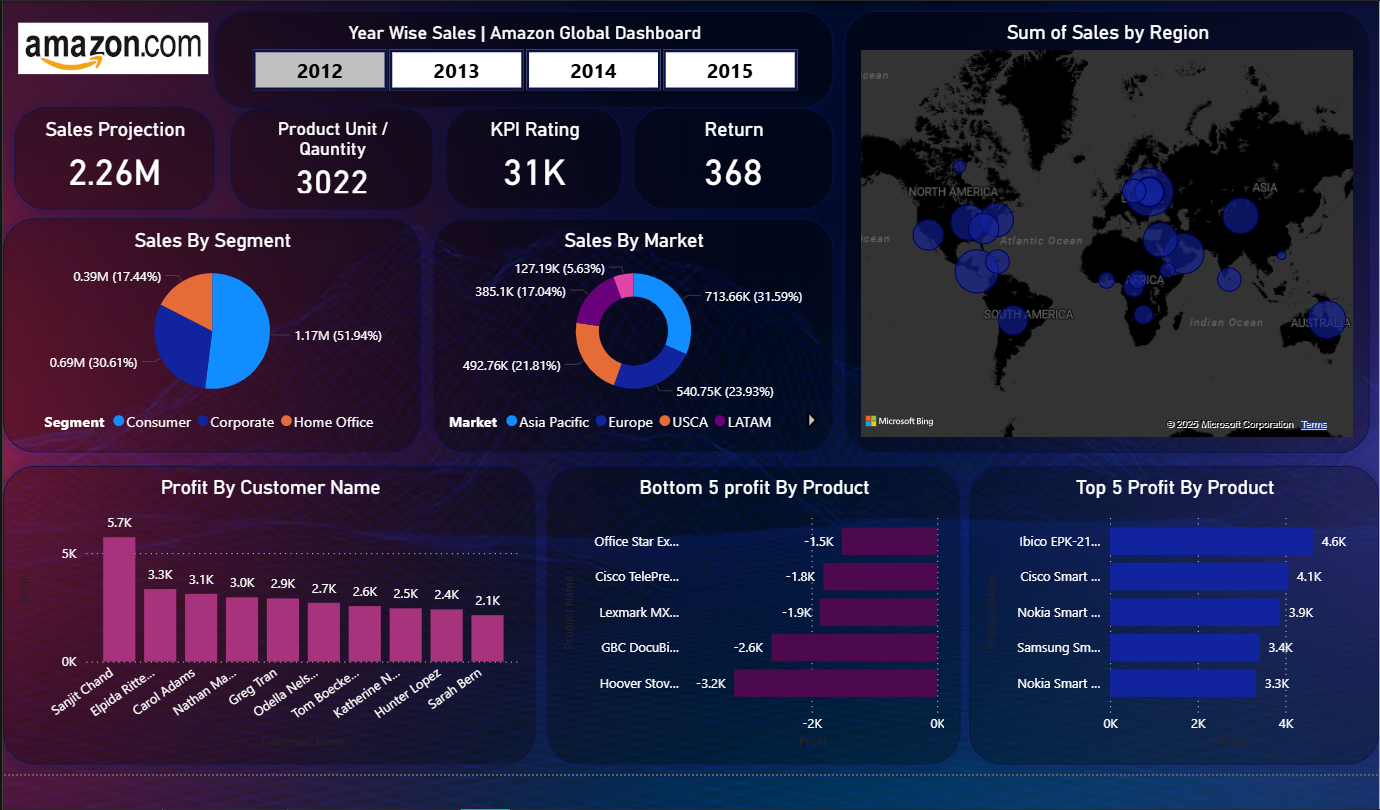

Layout of this report page (visuals, bound fields, positions):
{"tool":"powerbi","page":{"name":"Dashboard","canvas":[1280,720],"ordinal":0},"visuals":[{"type":"slicer","title":"Year Wise Sales | Amazon Global Dashboard","fields":{"Values":["Orders.Year"]},"box":[196.2,8.8,576.2,90],"z":0},{"type":"card","title":"Sales Projection","fields":{"Values":["Orders.Sales"]},"box":[10,98.8,186.2,95],"z":1000},{"type":"image","box":[8.8,0,186.2,87.5],"z":2000},{"type":"card","title":"Product Unit / Qauntity","fields":{"Values":["Orders.Product Name"]},"box":[211.2,98.8,188.8,95],"z":3000},{"type":"card","title":"KPI Rating","fields":{"Values":["Orders.Quantity"]},"box":[411.2,98.8,165,95],"z":4000},{"type":"card","title":"Return","fields":{"Values":["Orders.Ship Date"]},"box":[586.2,98.8,186.2,95],"z":5000},{"type":"pieChart","title":"Sales By Segment","fields":{"Category":["Orders.Segment"],"Y":["Orders.Sales"]},"box":[0,202.5,388.8,217.5],"z":6000},{"type":"donutChart","title":"Sales By Market","fields":{"Y":["Orders.Sales"],"Category":["Orders.Market"]},"box":[400,202.5,372.5,217.5],"z":7000},{"type":"columnChart","title":"Profit By Customer Name","fields":{"Category":["Orders.Customer Name"],"Y":["Orders.Profit"]},"box":[0,432.5,496.2,277.5],"z":8000},{"type":"clusteredBarChart","title":"Bottom 5 profit By Product","fields":{"Category":["Orders.Product Name"],"Y":["Orders.Profit"]},"box":[506.2,432.5,385,277.5],"z":9000},{"type":"clusteredBarChart","title":"Top 5 Profit By Product","fields":{"Category":["Orders.Product Name"],"Y":["Orders.Profit"]},"box":[898.8,432.5,381.2,277.5],"z":10000},{"type":"map","fields":{"Category":["Orders.Region"],"Size":["Orders.Sales"]},"box":[782.5,8.8,488.8,411.2],"z":11000}]}

Visuals, with their boxes on the page's 1280x720 design canvas (x1, y1, x2, y2). These are canvas units, not pixel positions in the 1380x810 screenshot, which may show the page scaled, cropped or inside an application window:
"Year Wise Sales | Amazon Global Dashboard" slicer: bbox(196, 9, 772, 99)
"Sales Projection" card: bbox(10, 99, 196, 194)
image: bbox(9, 0, 195, 88)
"Product Unit / Qauntity" card: bbox(211, 99, 400, 194)
"KPI Rating" card: bbox(411, 99, 576, 194)
"Return" card: bbox(586, 99, 772, 194)
"Sales By Segment" pieChart: bbox(0, 202, 389, 420)
"Sales By Market" donutChart: bbox(400, 202, 772, 420)
"Profit By Customer Name" columnChart: bbox(0, 432, 496, 710)
"Bottom 5 profit By Product" clusteredBarChart: bbox(506, 432, 891, 710)
"Top 5 Profit By Product" clusteredBarChart: bbox(899, 432, 1280, 710)
map - Orders.Region x Orders.Sales: bbox(782, 9, 1271, 420)
